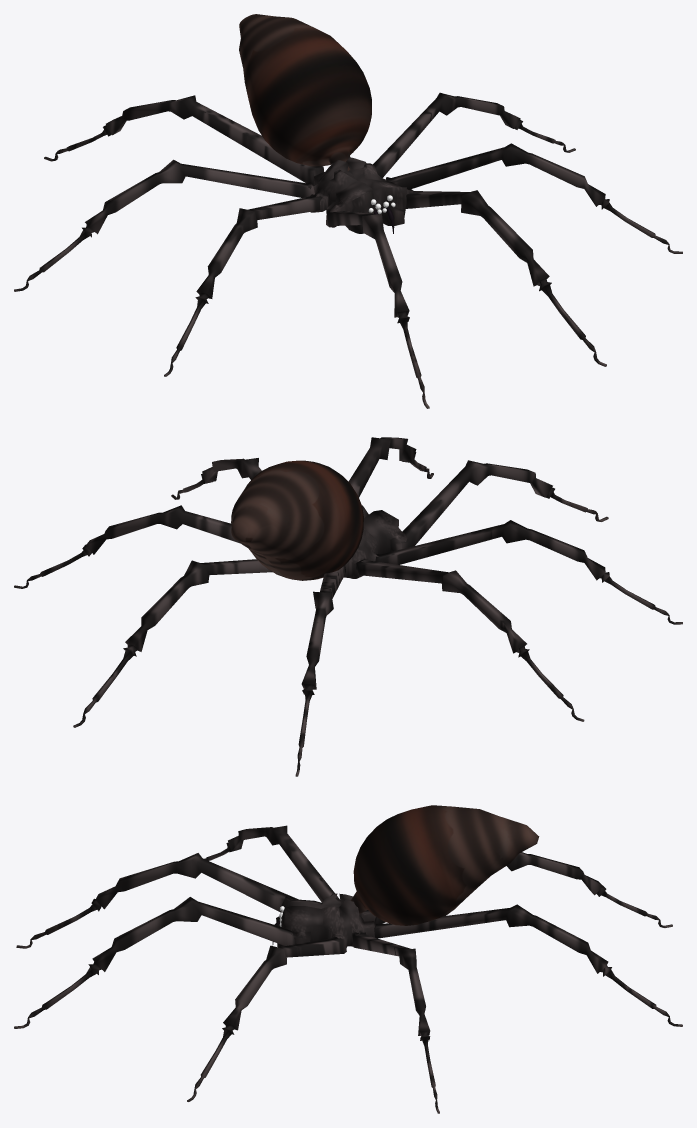
File: Spider2.glb
3 views of the same model, one above another, from view 1: azimuth 30°, elevation 25°; view 2: azimuth 150°, elevation 25°; view 3: azimuth 270°, elevation 25° (orthographic). The views are drawn at different scales.
Parts seen in each view (by area): view 1: Spider2; view 2: Spider2; view 3: Spider2.
Part boxes in pixels (bbox=[...]): Spider2: bbox=[14, 14, 682, 408]; Spider2: bbox=[14, 437, 682, 776]; Spider2: bbox=[14, 805, 682, 1113].
Bounding box in the file's own units: 0.2203 × 0.0711 × 0.239.
Materials: 3 (1 with a texture image).
